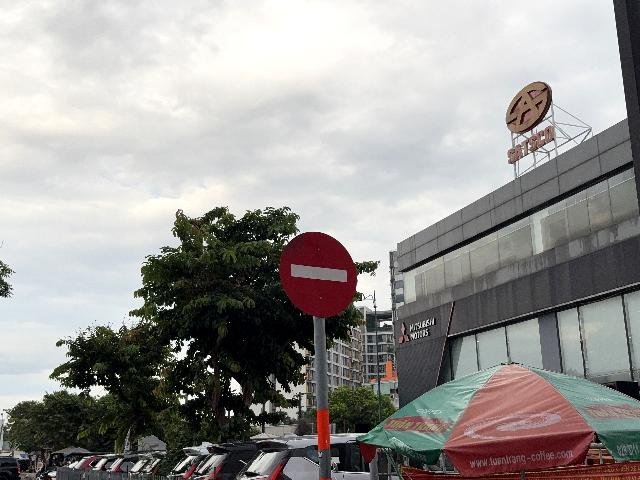cam-di-nguoc-chieu: (279, 230, 357, 318)
